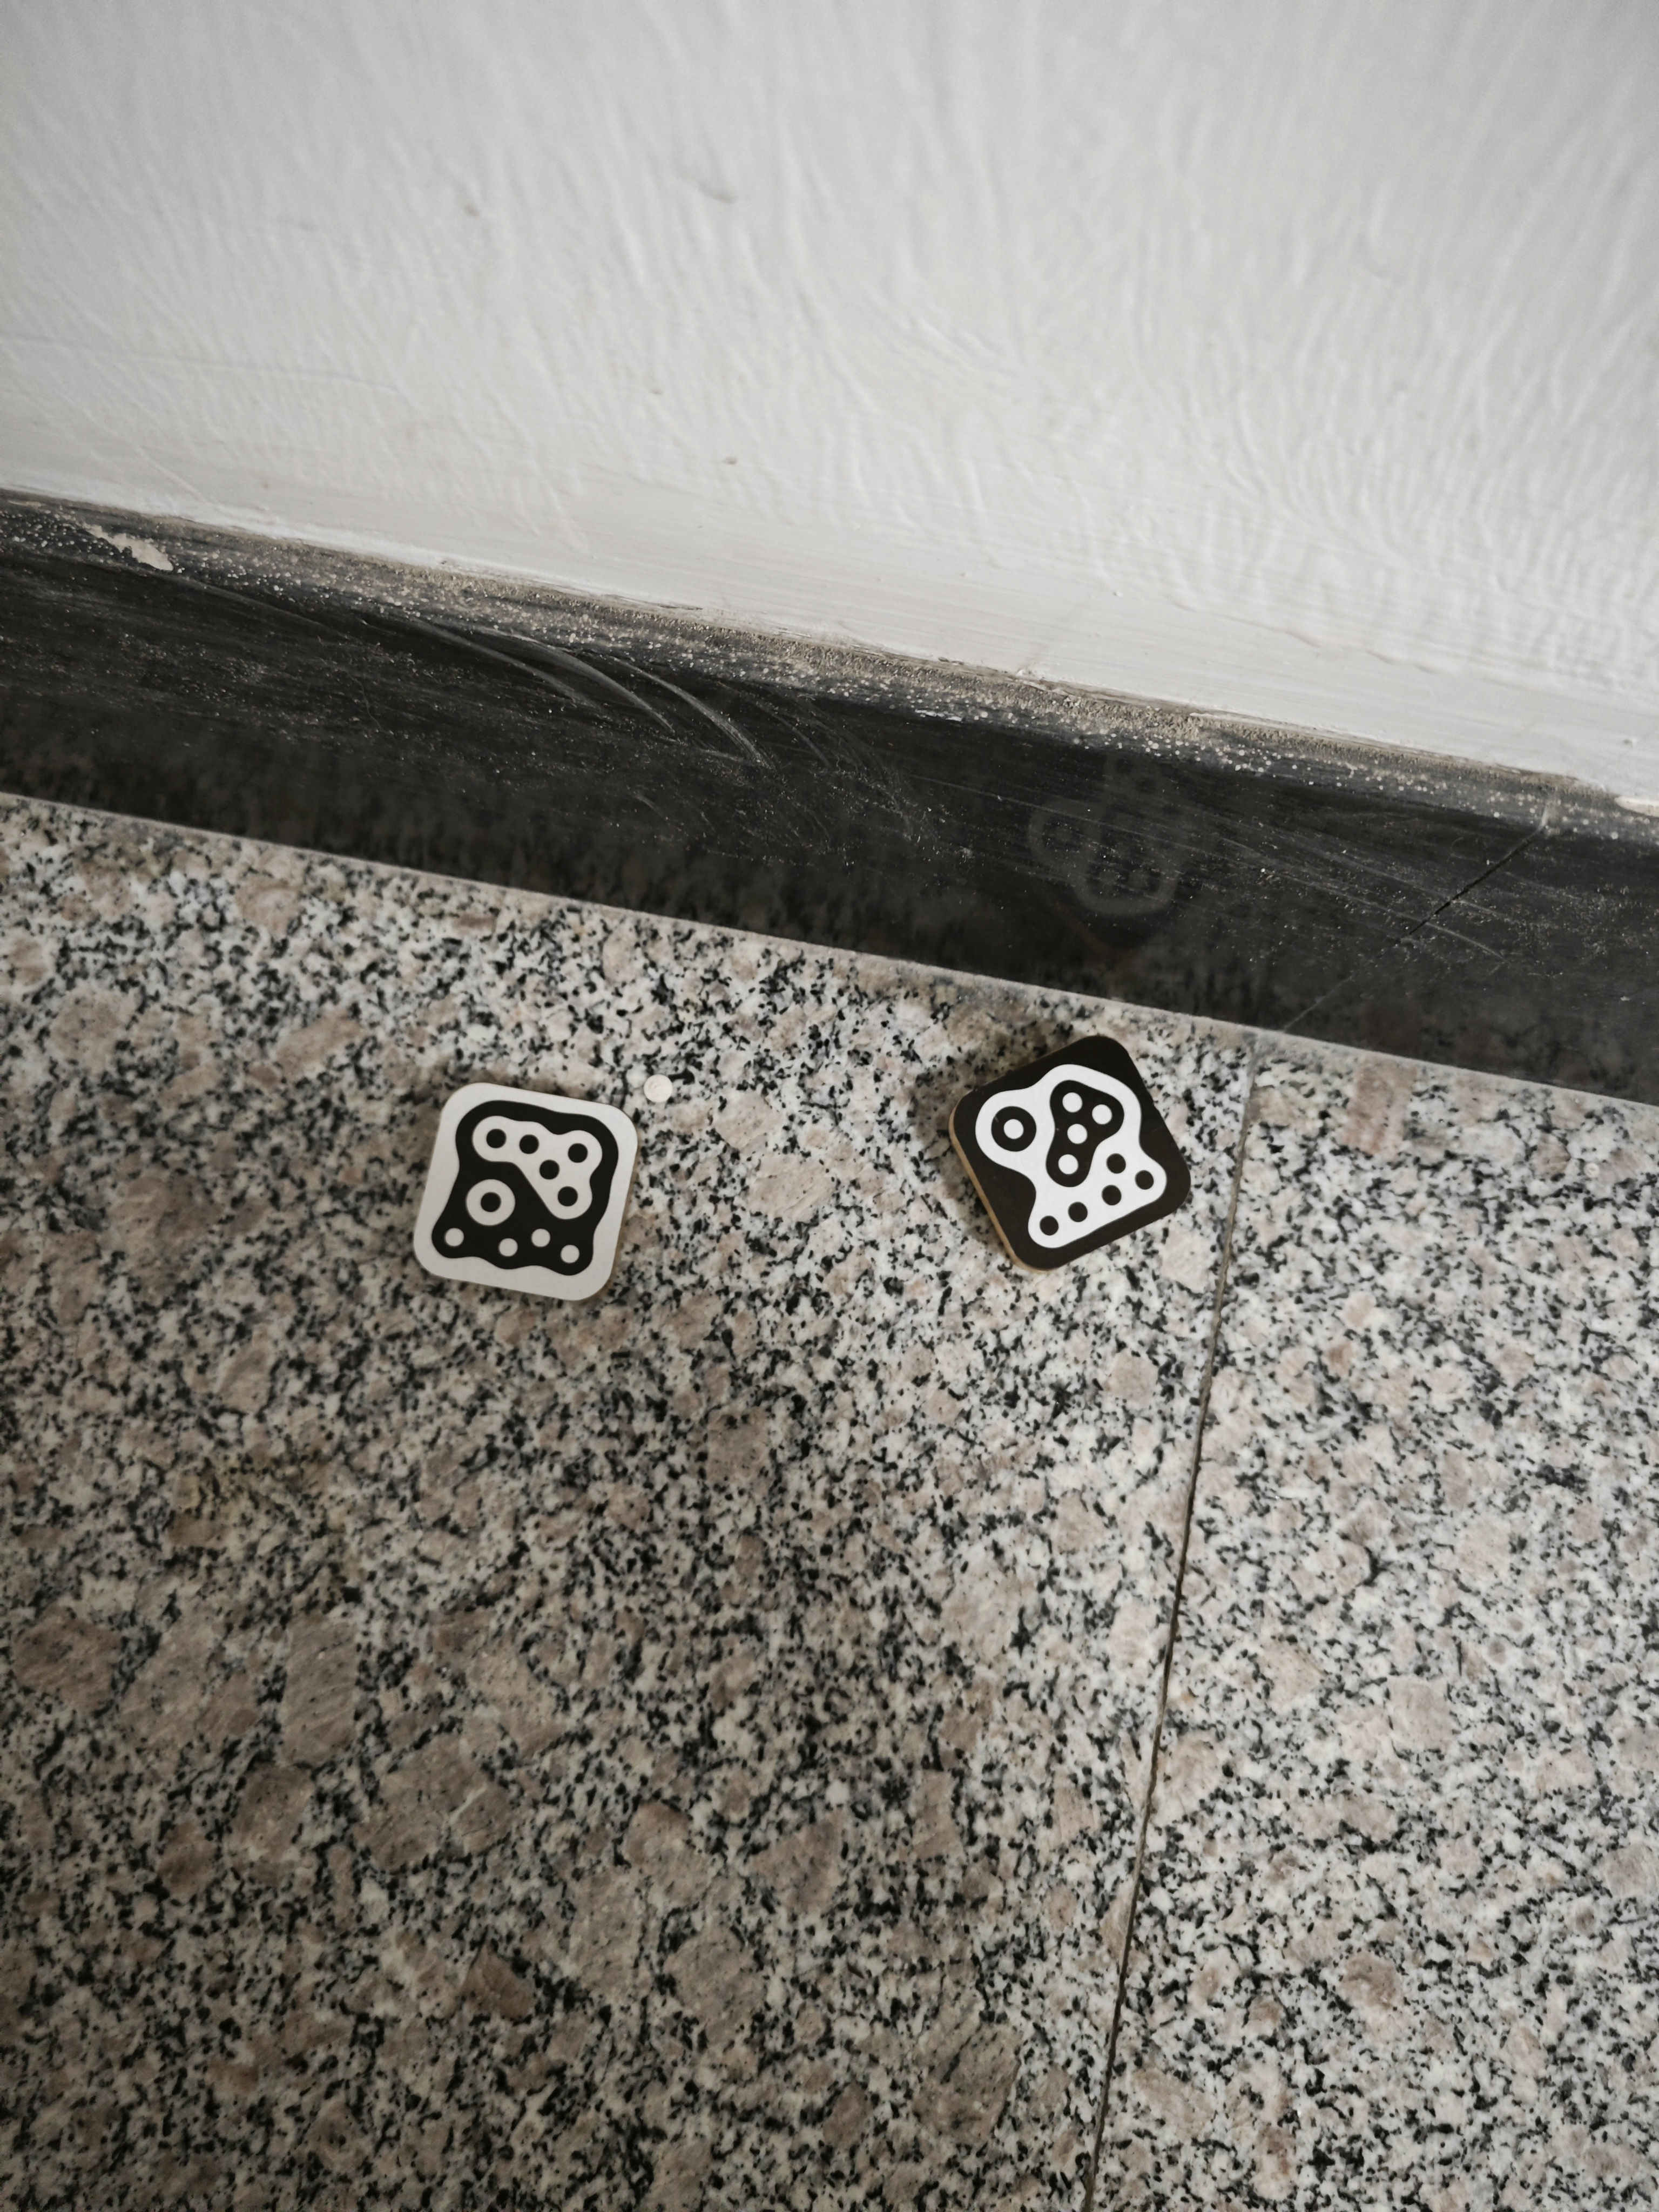mark1: (425, 1094, 622, 1296)
mark2: (967, 1054, 1173, 1252)
